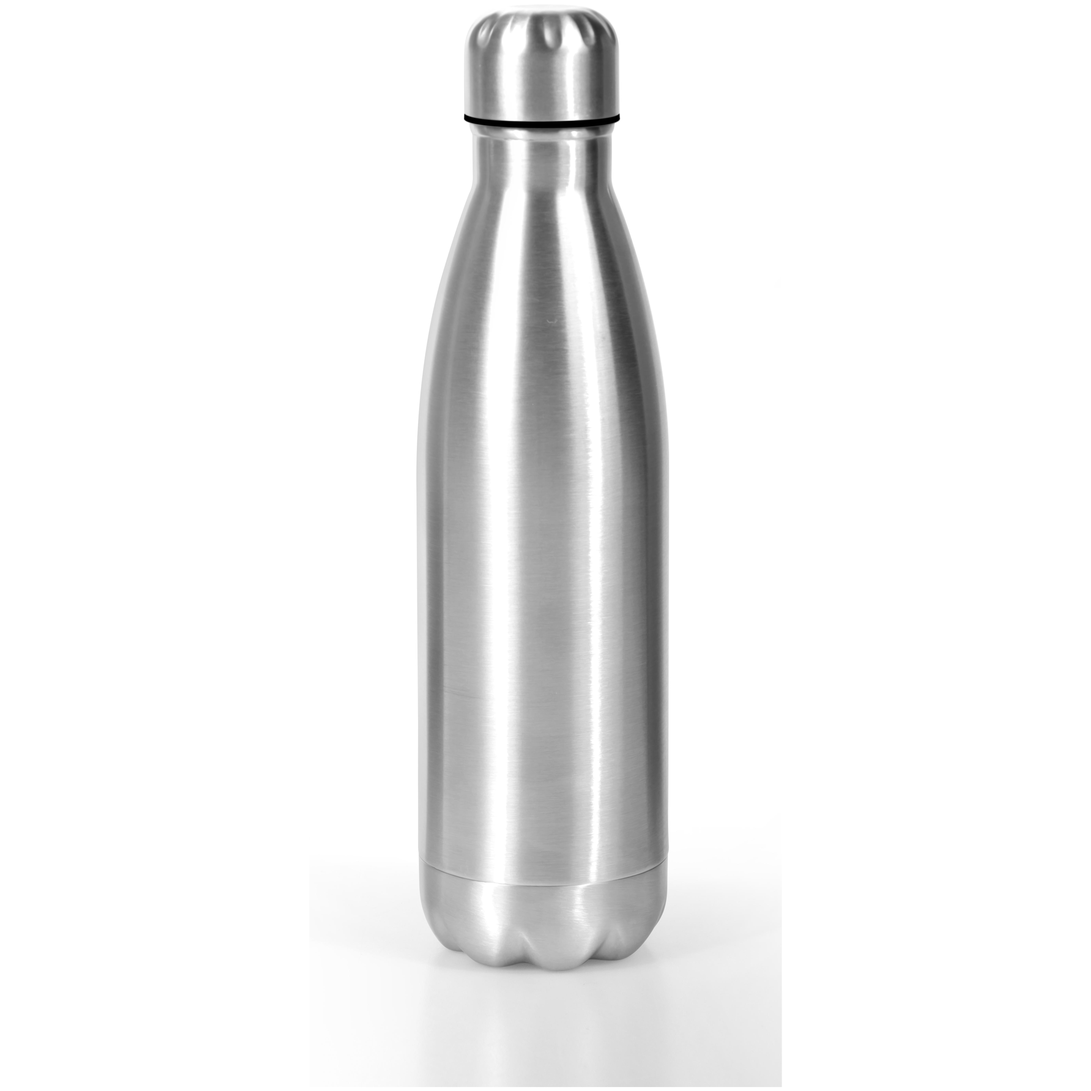gym bottle: (406, 6, 679, 974)
